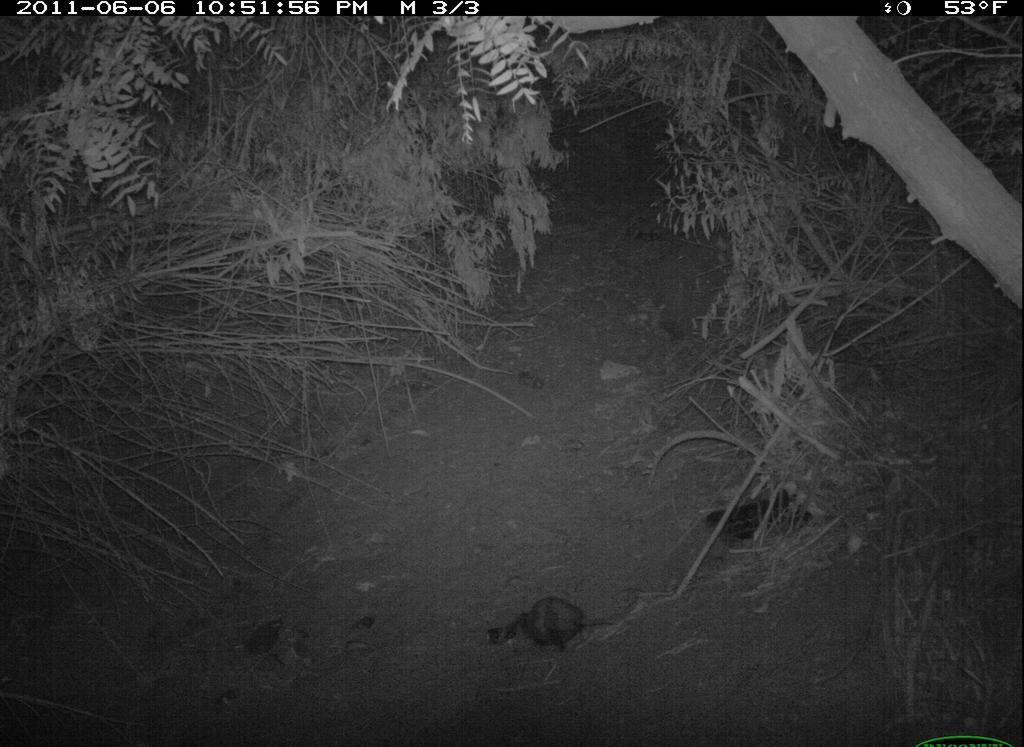opossum: (493, 587, 615, 681)
